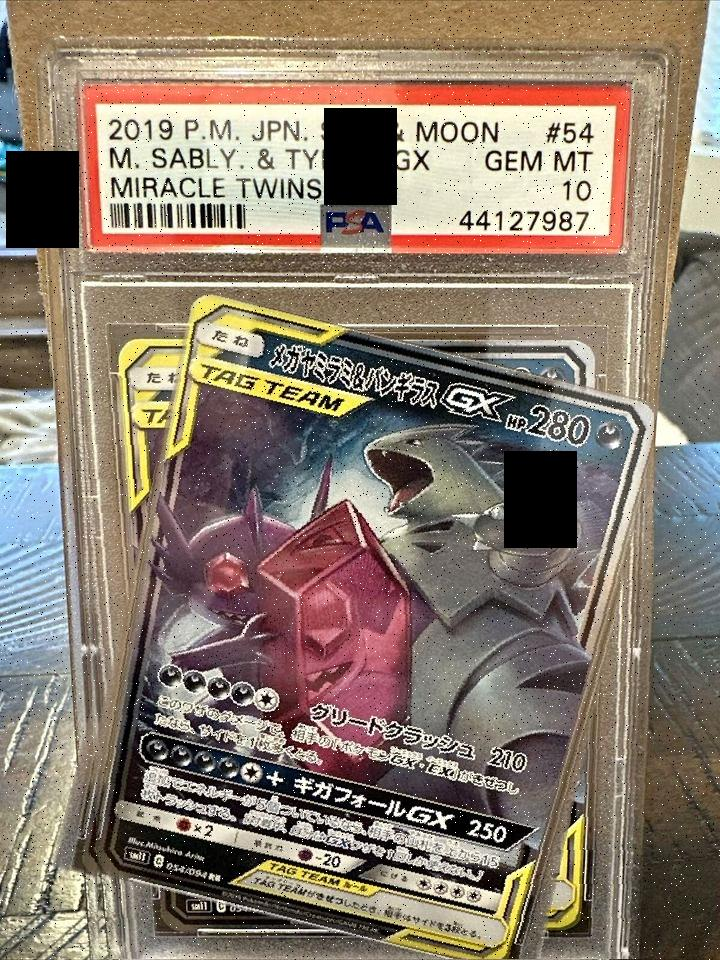card: (97, 293, 654, 960)
